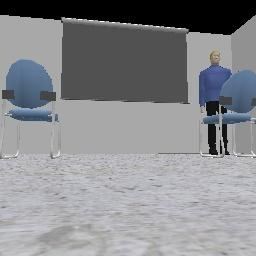persoana: (200, 50, 231, 115), (209, 124, 217, 154), (223, 124, 228, 154)
scaun: (0, 60, 60, 158), (199, 70, 255, 157)
videoproiector: (61, 18, 187, 102)
